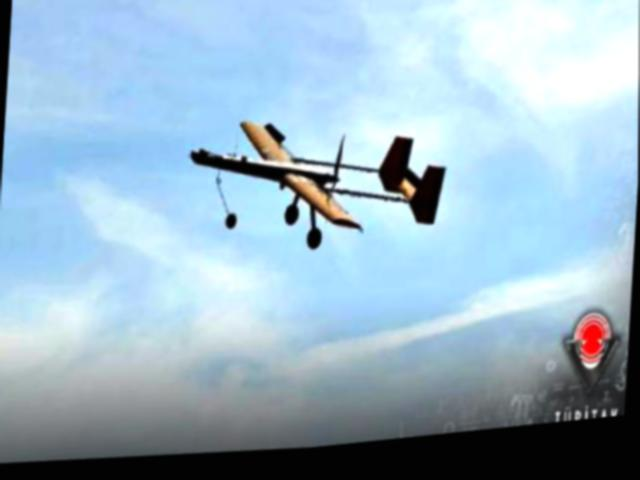uav: (180, 101, 452, 271)
